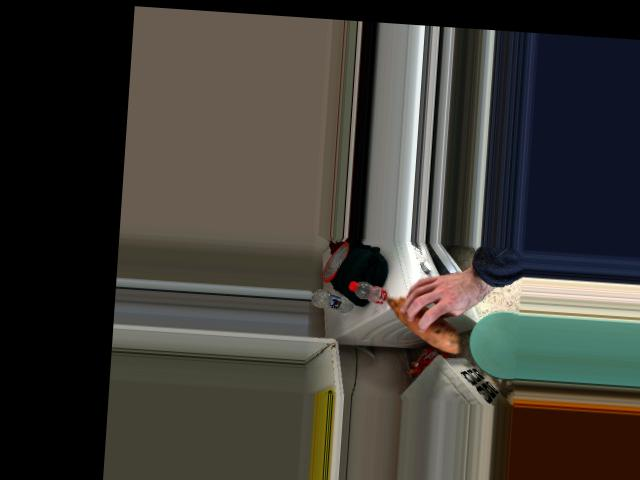sweet_potato: (386, 287, 453, 352)
